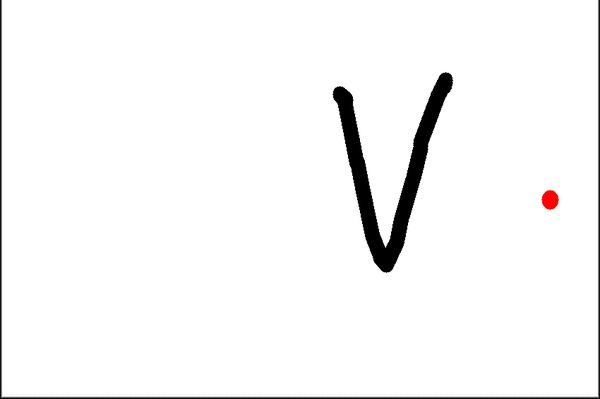V: (327, 63, 459, 276)
